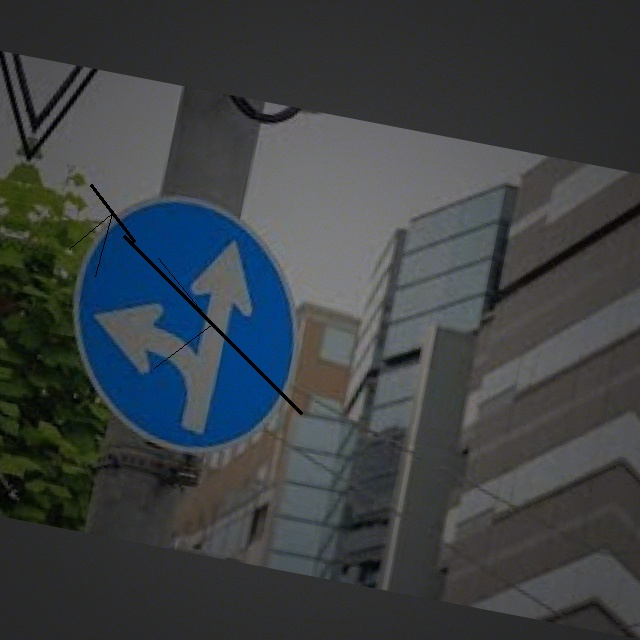Compulsory_Ahead_or_Turn_Left: (52, 183, 319, 467)
